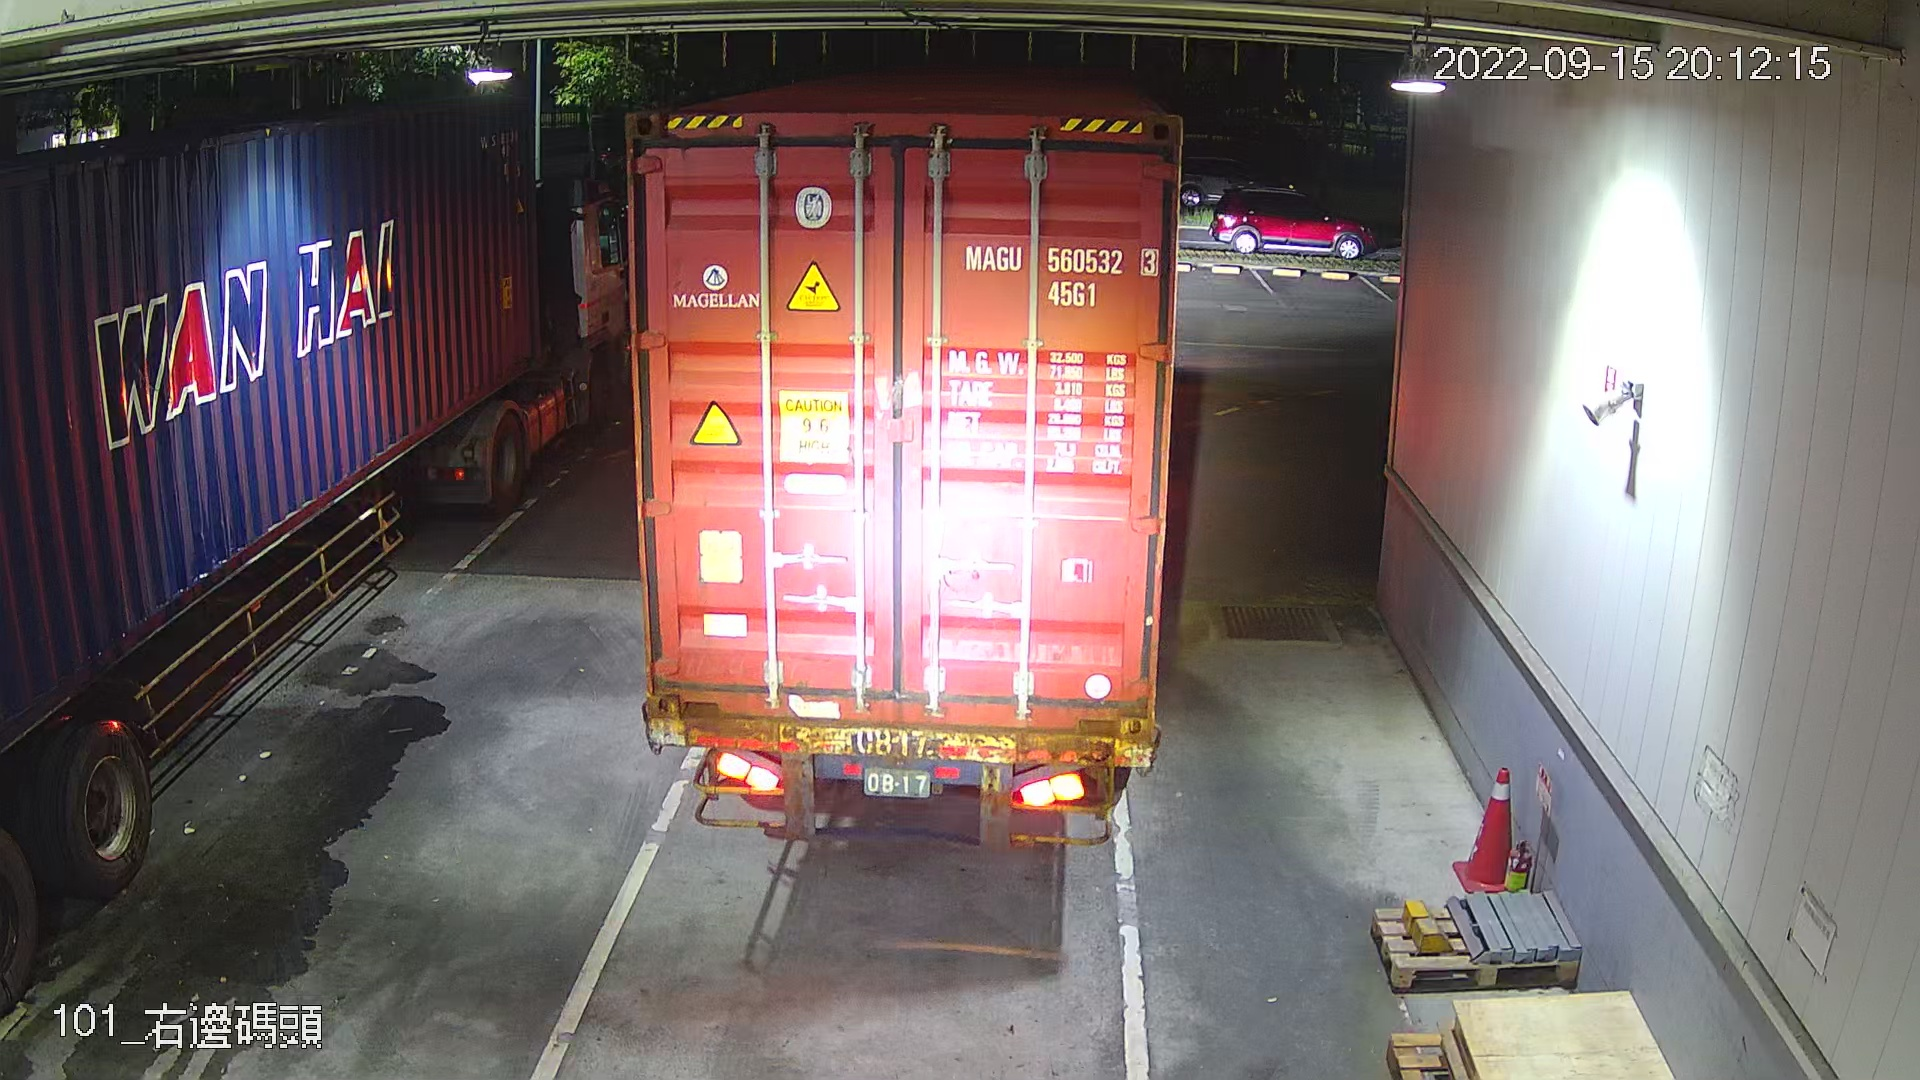container: (953, 233, 1166, 316)
